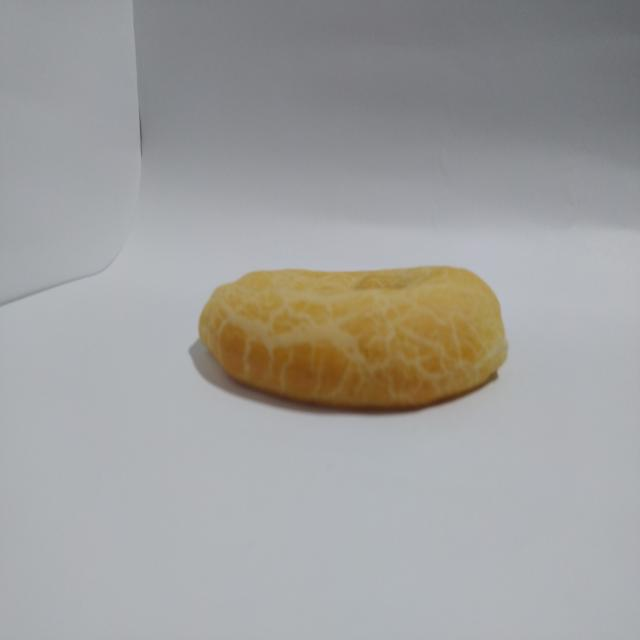Food: (195, 249, 515, 426)
